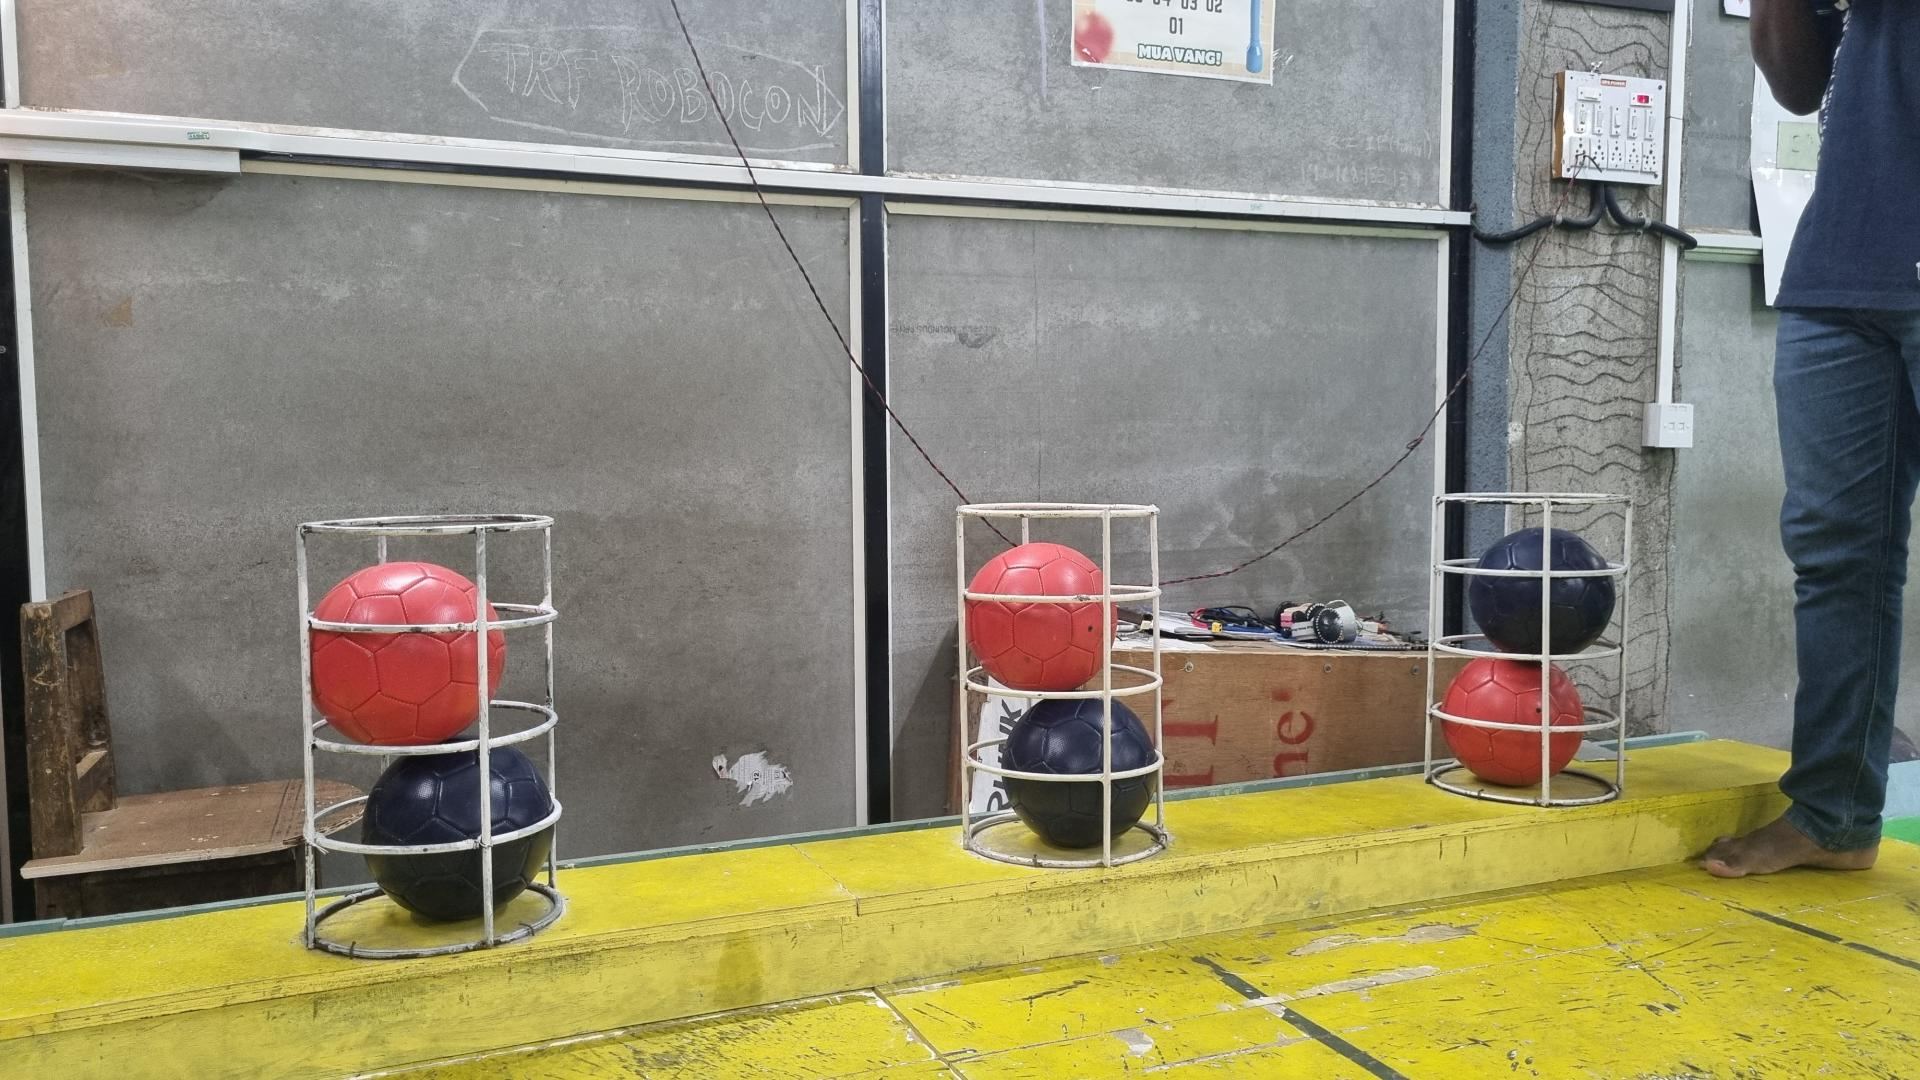dhoka: (363, 745, 558, 926), (997, 696, 1159, 851), (1469, 526, 1615, 654)
laale: (310, 562, 505, 745), (960, 543, 1117, 694), (1439, 658, 1585, 786)
